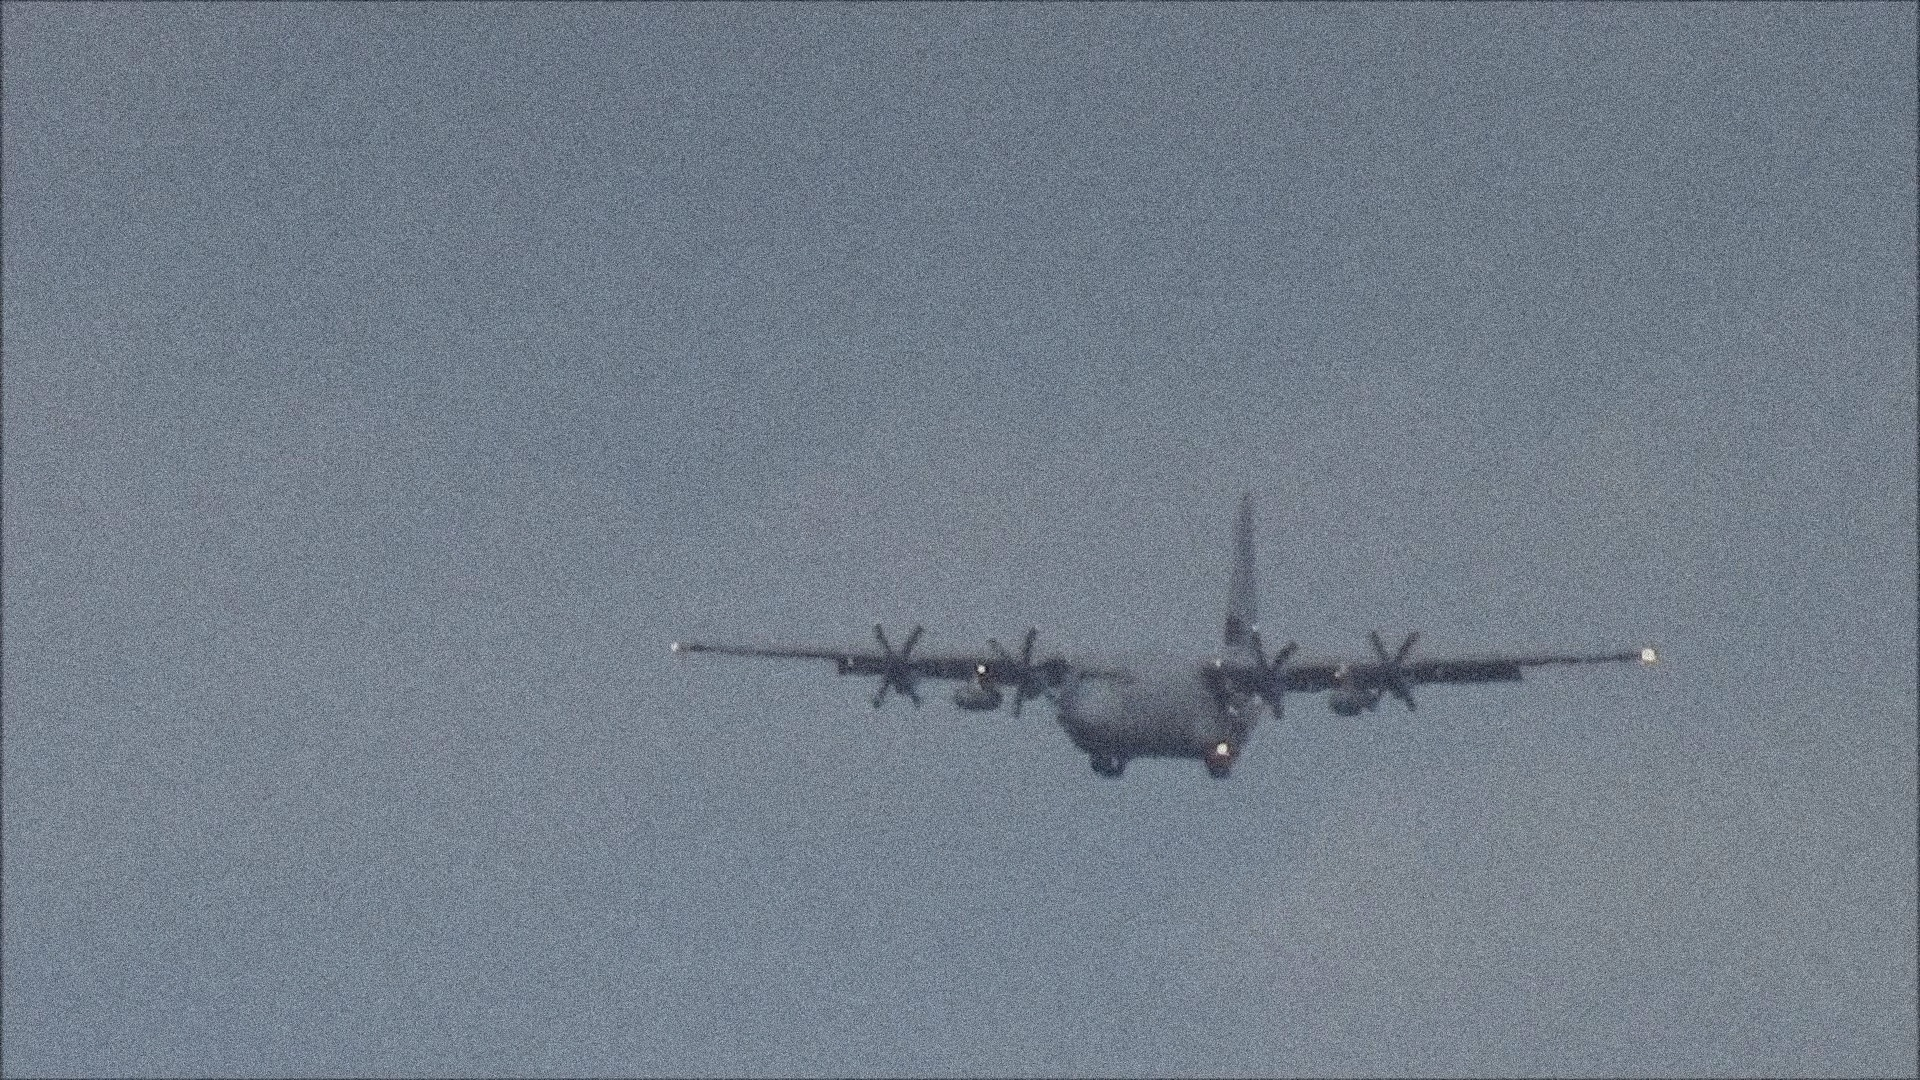Airplane: (661, 483, 1671, 778)
